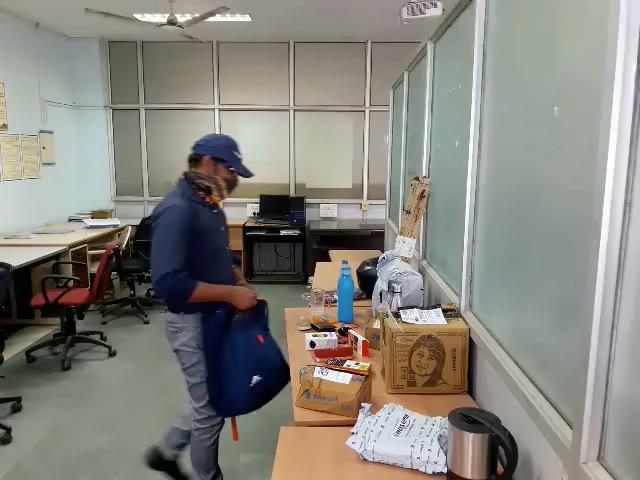shoplifting: (107, 271, 384, 463)
